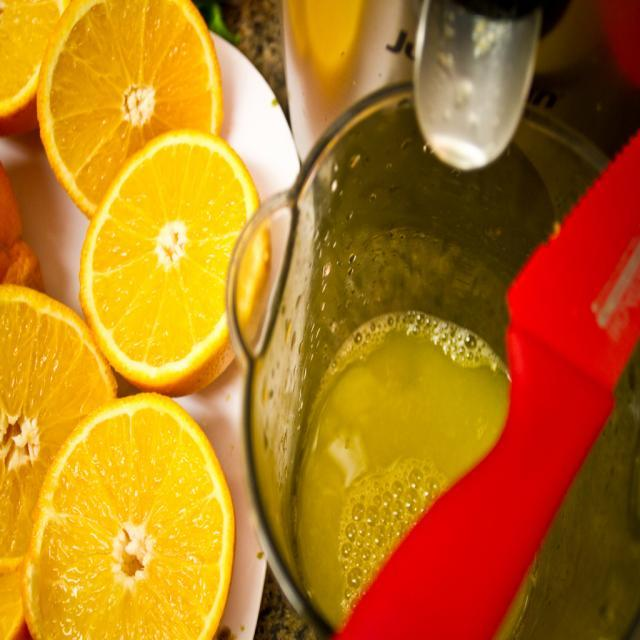Orange: (0, 0, 272, 639)
